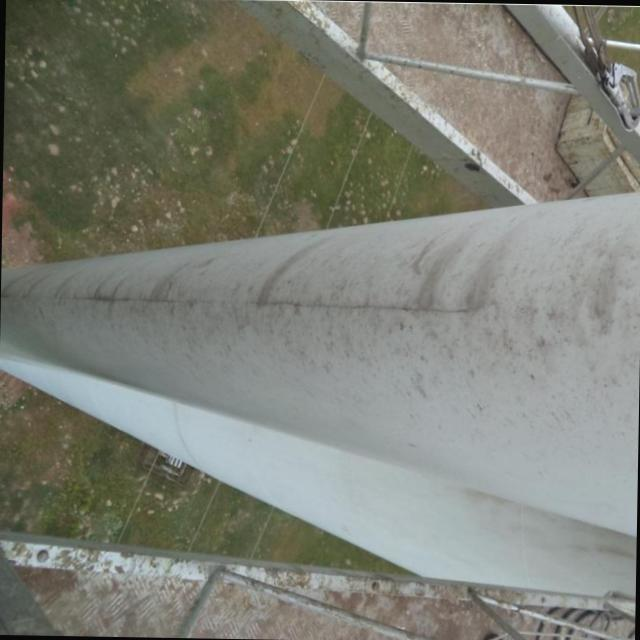crack: (250, 295, 470, 316), (78, 294, 198, 306)
